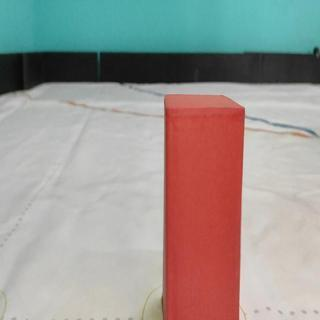redbox: (163, 95, 239, 320)
